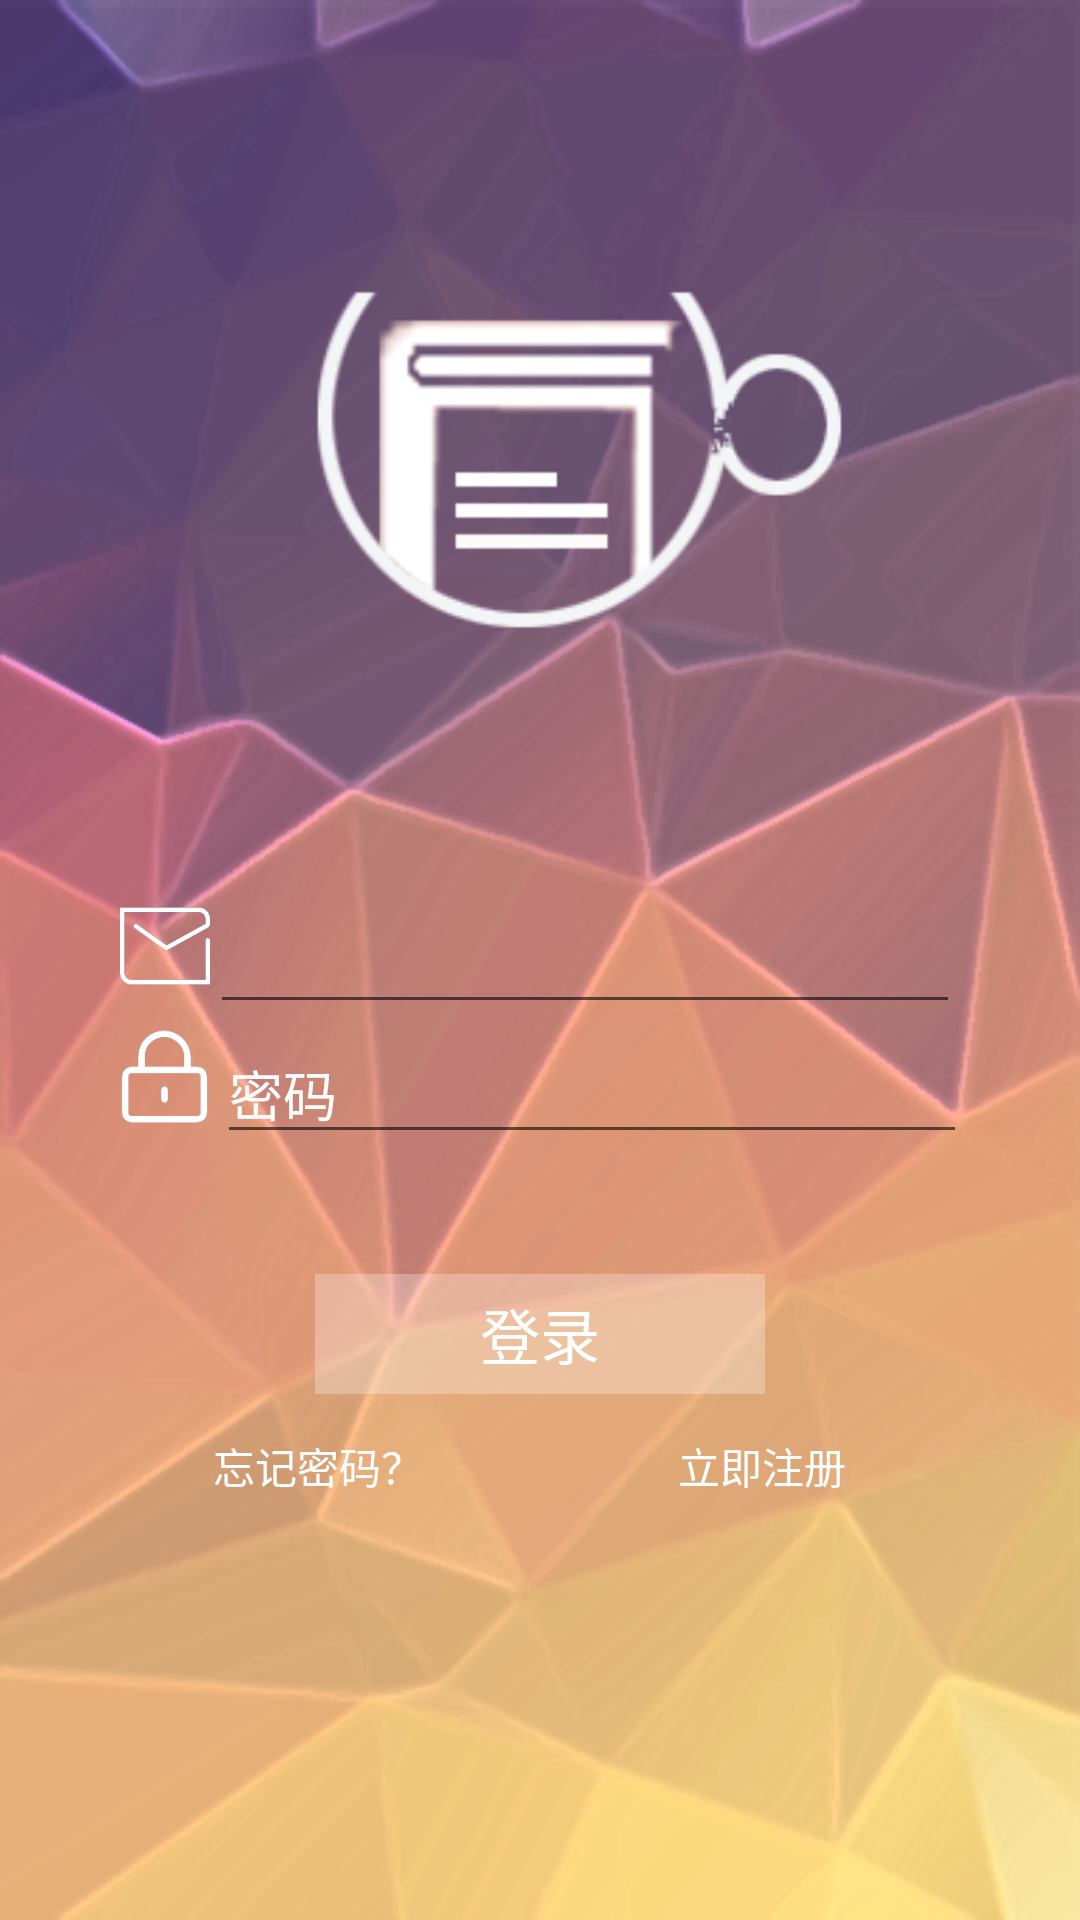

Icon click points for this 1080px×1920px phone screenshot, format [x,y]:
email: [165,945]
